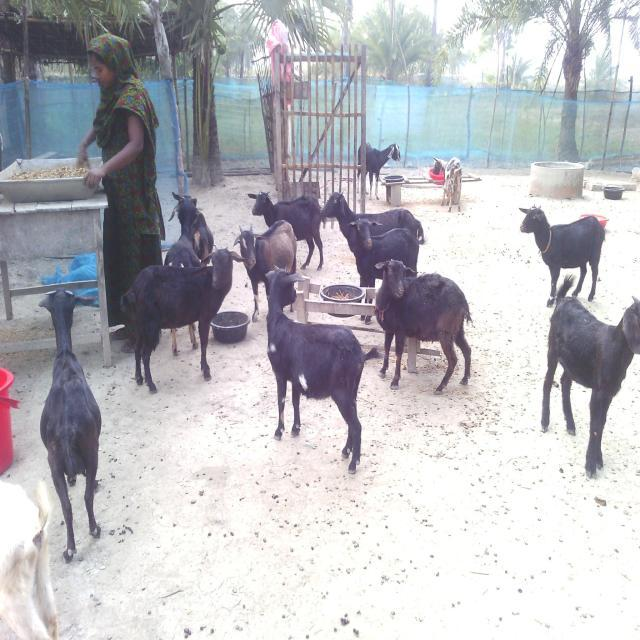Goat: (263, 265, 380, 474), (540, 273, 639, 479), (118, 245, 245, 394), (37, 287, 102, 563), (374, 258, 474, 394), (0, 477, 58, 638), (518, 203, 605, 307), (163, 190, 214, 354), (233, 218, 297, 322), (247, 190, 324, 271), (357, 141, 401, 200)
